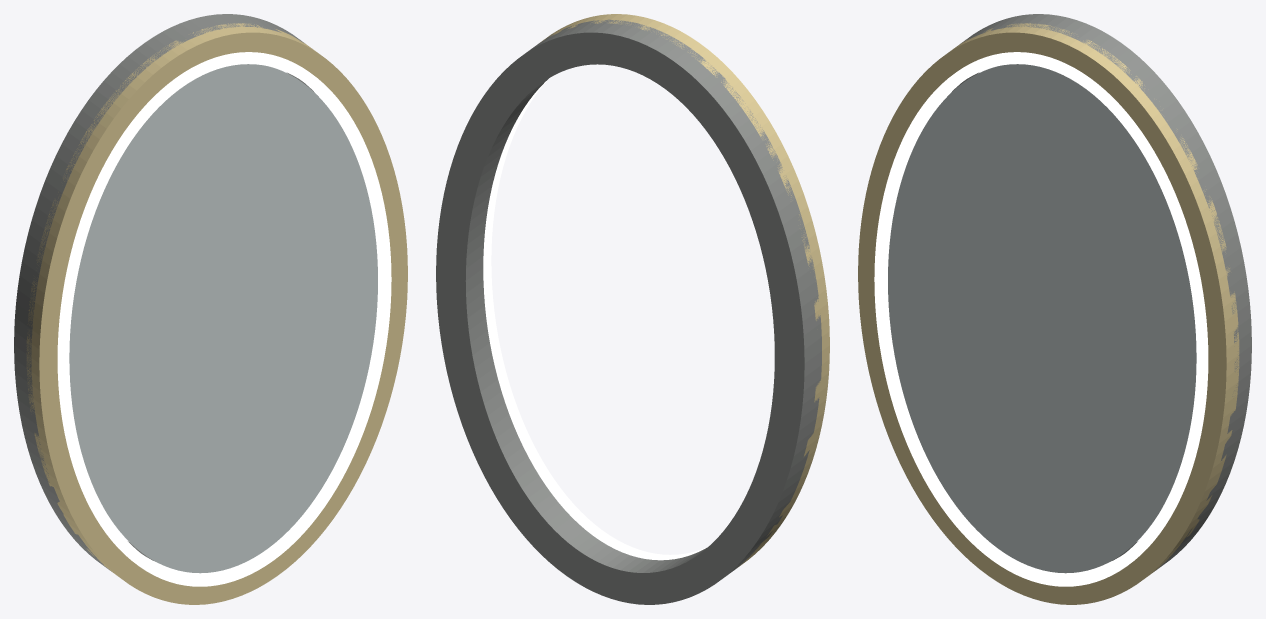
3 renders of one model, left to right at view 1: azimuth 30°, elevation 25°; view 2: azimuth 150°, elevation 25°; view 3: azimuth 330°, elevation 25°, orthographic.
Parts seen in each view (by area): view 1: Reflective gray mirror glass, Champagne gold outer rim, Integrated white LED perimeter, Rear housing; view 2: Rear housing, Champagne gold outer rim, Integrated white LED perimeter; view 3: Reflective gray mirror glass, Champagne gold outer rim, Integrated white LED perimeter, Rear housing.
Part boxes in pixels (<box>): Reflective gray mirror glass: <box>69,64,377,573</box>; Champagne gold outer rim: <box>26,23,407,604</box>; Integrated white LED perimeter: <box>57,52,391,586</box>; Rear housing: <box>14,14,318,571</box>; Rear housing: <box>436,19,821,604</box>; Champagne gold outer rim: <box>540,14,829,567</box>; Integrated white LED perimeter: <box>483,80,707,560</box>; Reflective gray mirror glass: <box>888,64,1196,573</box>; Champagne gold outer rim: <box>858,23,1239,604</box>; Integrated white LED perimeter: <box>874,52,1208,586</box>; Rear housing: <box>947,14,1251,571</box>.
Bounding box in the file's own units: 0.73 × 1.07 × 0.093.
